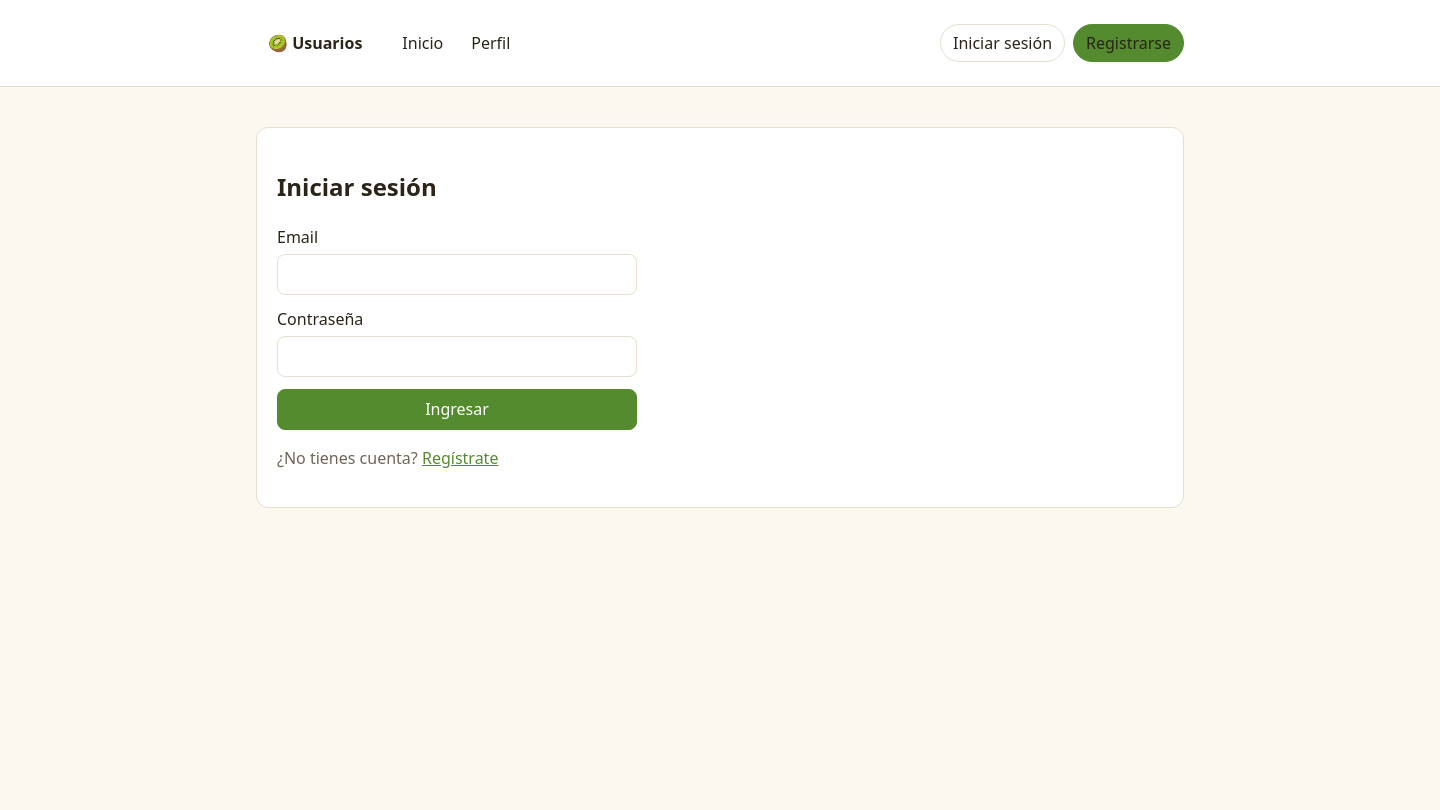
Scenario: Manejo de usuario › actualiza el nombre del perfil
Type "user@kiwi.cl" into the field labelled "Email" at coordinates (457, 274), box [277,254,637,295]
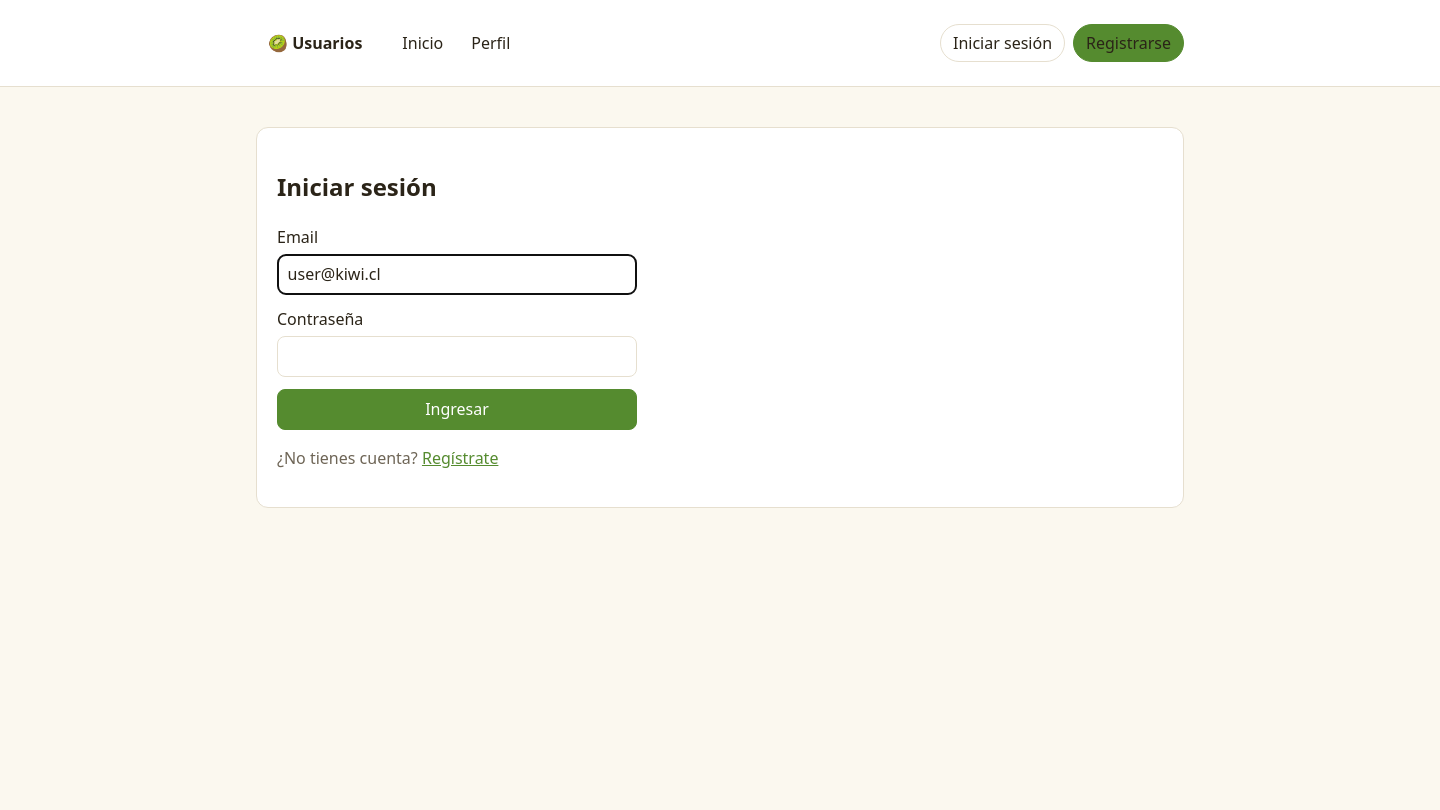
Type "user123" into the password field labelled "Contraseña" at coordinates (457, 356), box [277,336,637,377]
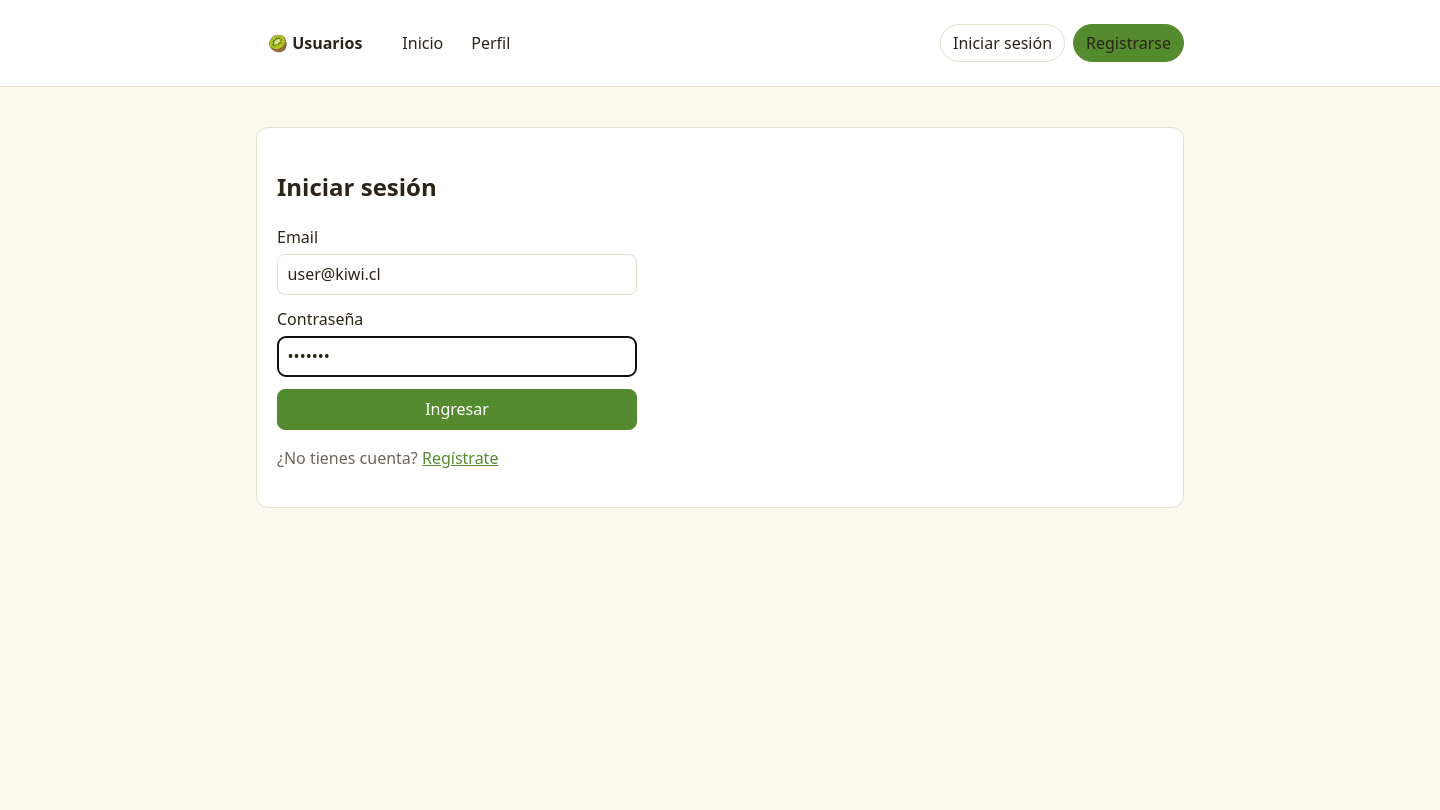
Click the button "Ingresar" at coordinates (457, 410), box [277,389,637,430]
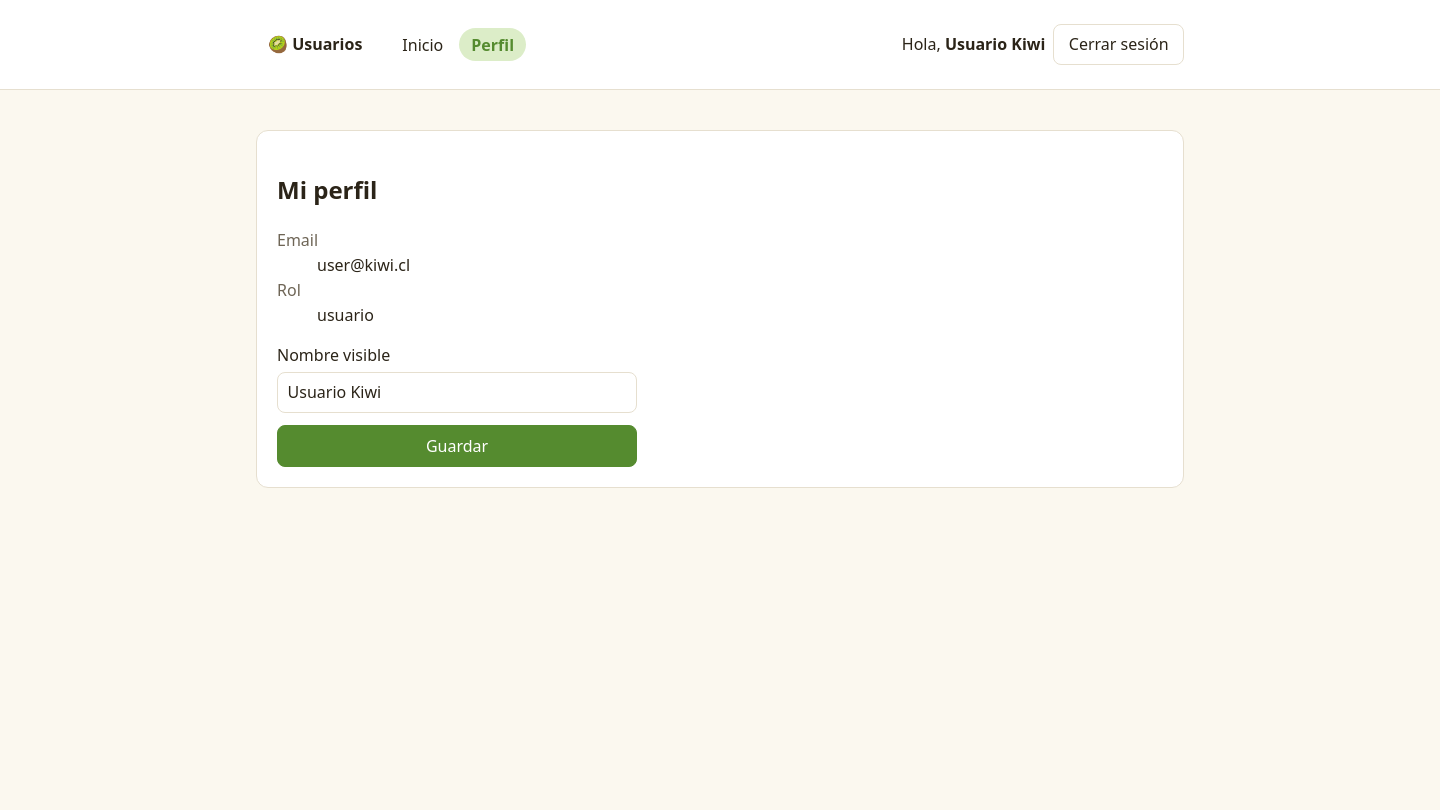
Replace the text in the field labelled "Nombre visible" with "Kiwi Renombrado" at coordinates (457, 393), box [277,372,637,413]
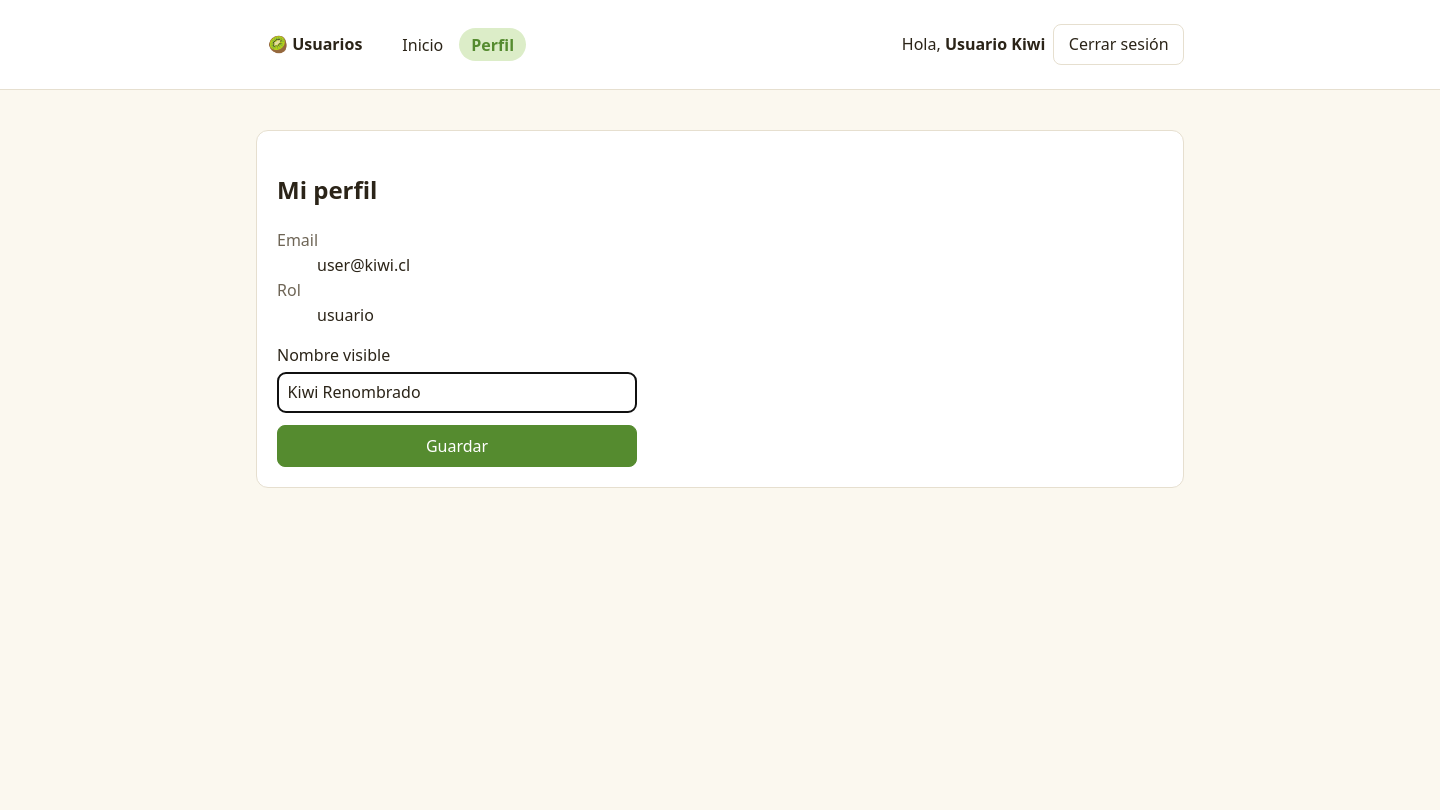
Click the button "Guardar" at coordinates (457, 446), box [277,425,637,466]
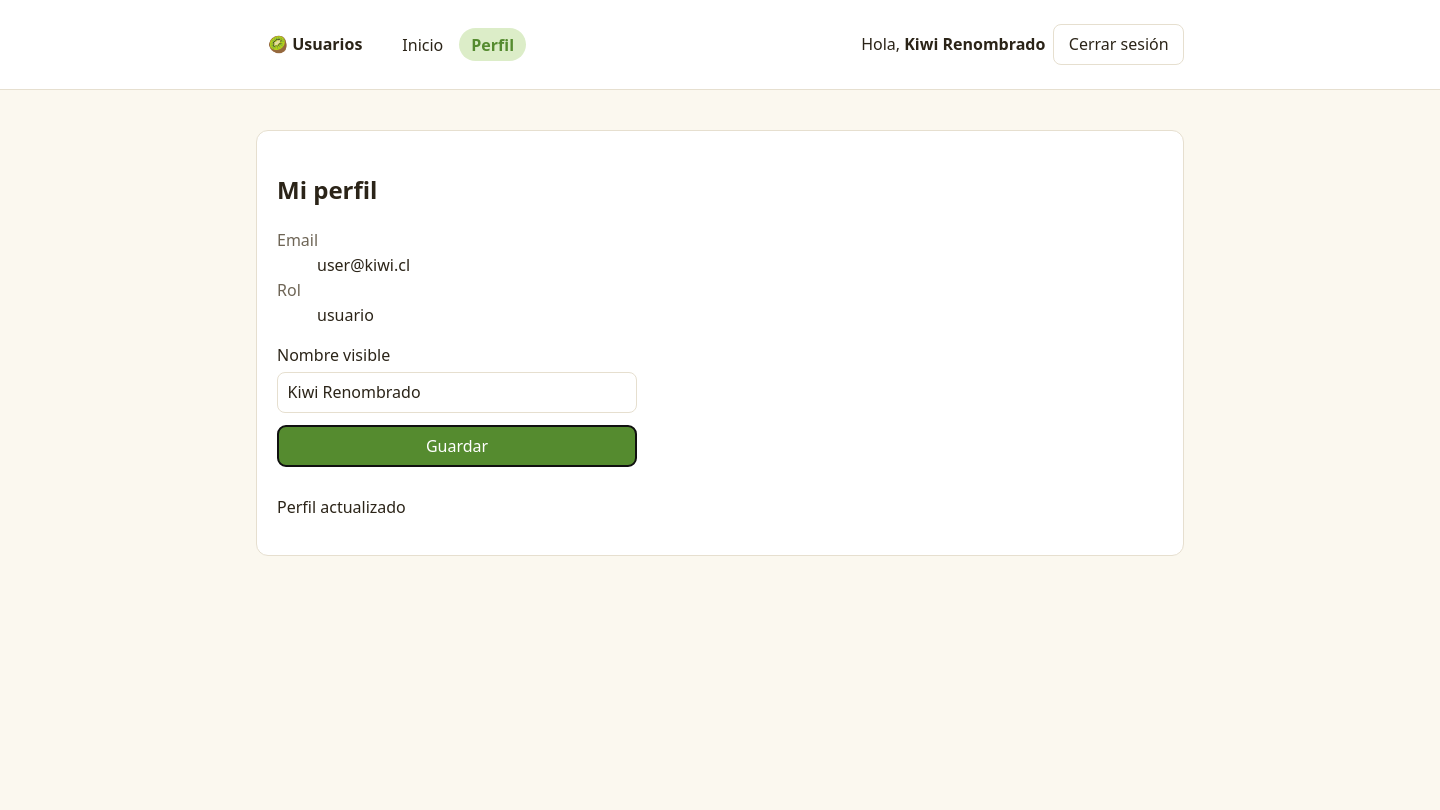
Check: the text "Kiwi Renombrado" is shown, box [904,33,1045,55]
